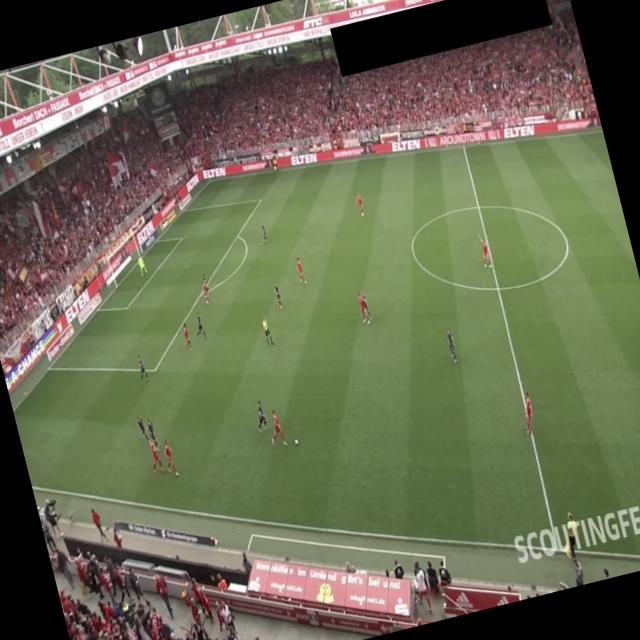ball: (294, 438, 300, 446)
goalkeeper: (136, 252, 148, 277)
player: (264, 407, 288, 449), (516, 390, 538, 434), (144, 436, 164, 476), (160, 438, 180, 478), (251, 398, 270, 434), (476, 231, 493, 268), (355, 289, 372, 325), (444, 326, 459, 363), (134, 352, 150, 383), (134, 412, 150, 443), (192, 312, 208, 341), (144, 416, 158, 446), (293, 256, 307, 284), (180, 322, 192, 351), (271, 280, 283, 308), (199, 278, 211, 304), (354, 192, 366, 218), (199, 271, 211, 295), (258, 220, 268, 244)
referee: (556, 510, 584, 562), (260, 314, 274, 346), (270, 156, 280, 173)
